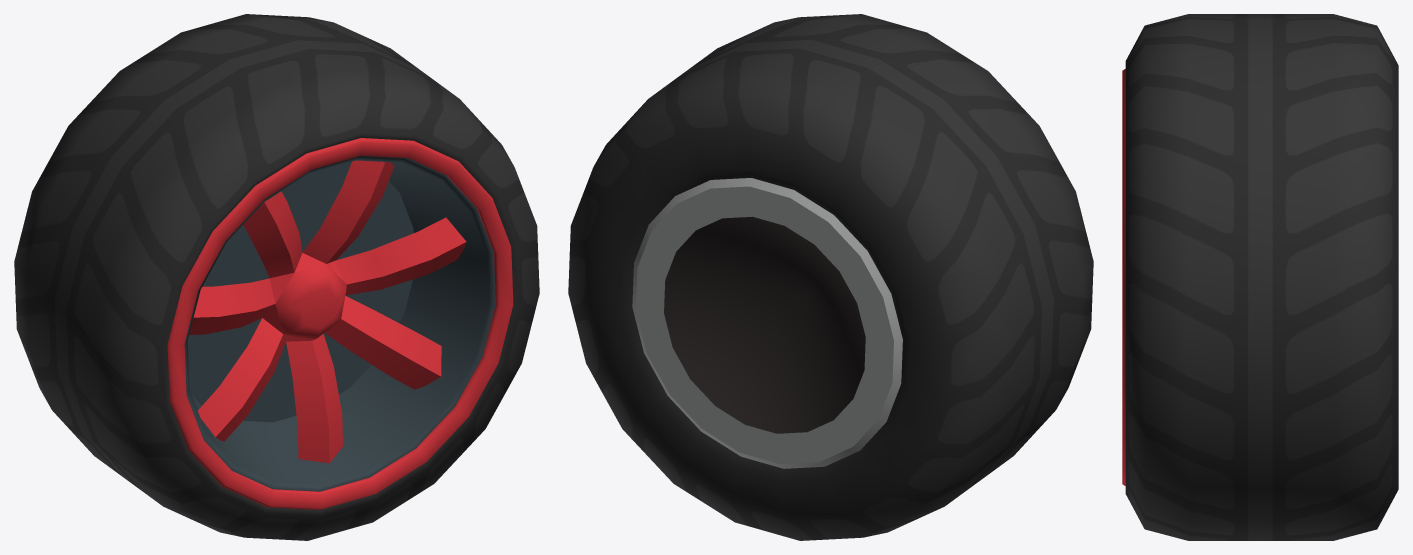
The model's file is Wheel_03.fbx.
3 renders of one model, left to right at view 1: azimuth 30°, elevation 25°; view 2: azimuth 150°, elevation 25°; view 3: azimuth 270°, elevation 25°, orthographic. The views are drawn at different scales.
Parts seen in each view (by area): view 1: Wheel_03; view 2: Wheel_03; view 3: Wheel_03.
Boxes of the visible parts, x1,y1,x2,y2 form: Wheel_03: (14, 14, 539, 540); Wheel_03: (568, 14, 1093, 540); Wheel_03: (1122, 14, 1398, 540).
Bounding box in the file's own units: 95 × 50 × 95.
